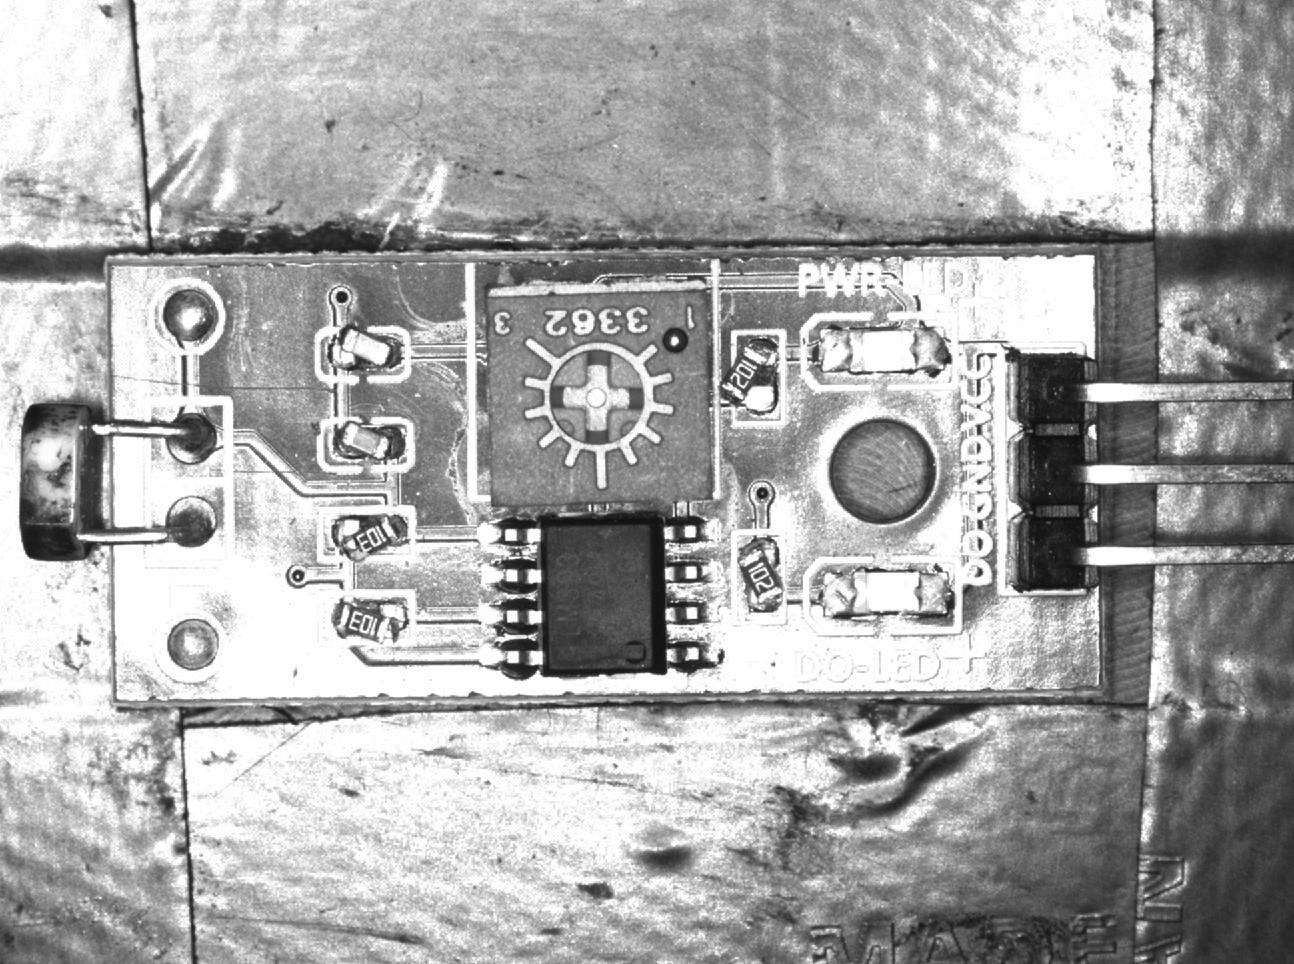lifted: (321, 593, 420, 649), (728, 331, 785, 428), (732, 531, 789, 623), (322, 510, 415, 565), (320, 418, 415, 471), (318, 327, 409, 381)
